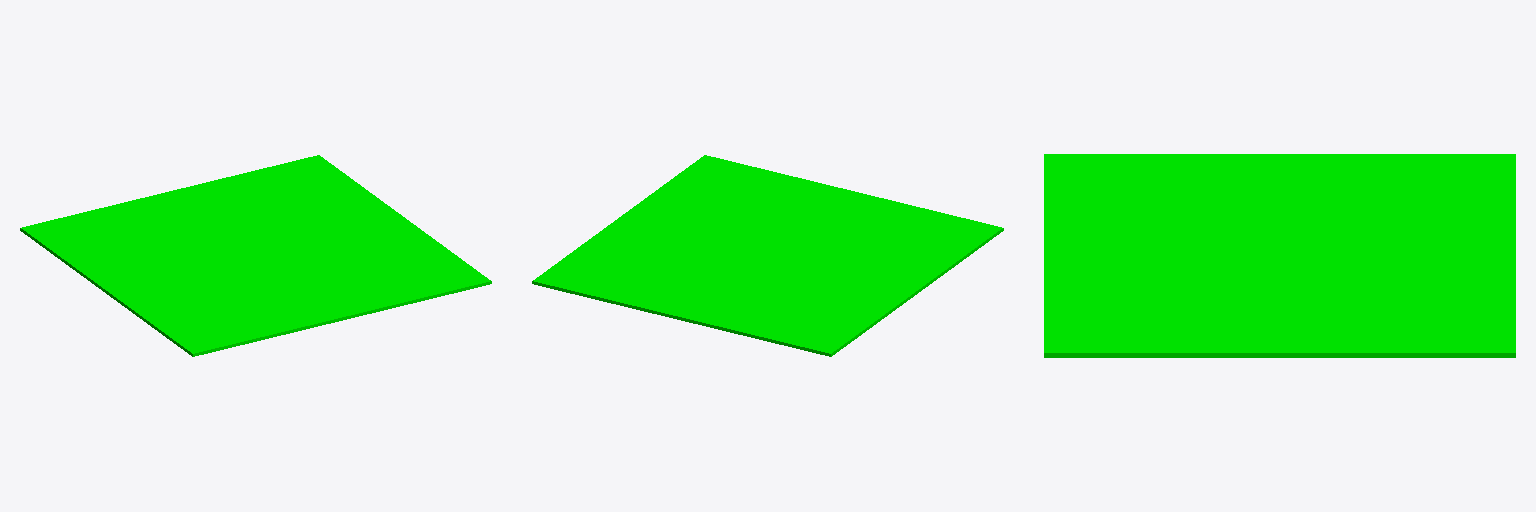
URDF robot description (cube):
<?xml version="1.0"?>
<robot name="cube">

  <material name="green">
    <color rgba="0 255 0 1"/>
  </material>

  <link name="cube_link">
    <inertial>
      <origin rpy="0 0 0" xyz="0 0 0" />
      <mass value=".0" />
      <inertia ixx="0" ixy="0" ixz="0" iyy="0" iyz="0" izz="0" />
    </inertial>
    <visual>
        <origin rpy="0 0 0" xyz="0 0 0" />

        <geometry>
            <box size="0.1 0.1 0.001" />
        </geometry>
        <material name="green" />
    </visual>
  </link>
</robot>

--- Render facts (derived) ---
3 views of the same robot in one strip: view 1: azimuth 30°, elevation 25°; view 2: azimuth 150°, elevation 25°; view 3: azimuth 270°, elevation 25° (orthographic).
Robot: cube — 1 links, 0 joints (none); root link cube_link; default pose: all joints at 0.
Visible links, largest first — view 1: cube_link; view 2: cube_link; view 3: cube_link.
Boxes of the visible links, x1,y1,x2,y2 form: cube_link: (20, 155, 491, 356); cube_link: (532, 155, 1003, 356); cube_link: (1044, 154, 1515, 357).
Size in the robot's own frame: 0.1 by 0.1 by 0.001 metres.
Geometry: primitives only (box / cylinder / sphere), no mesh files.